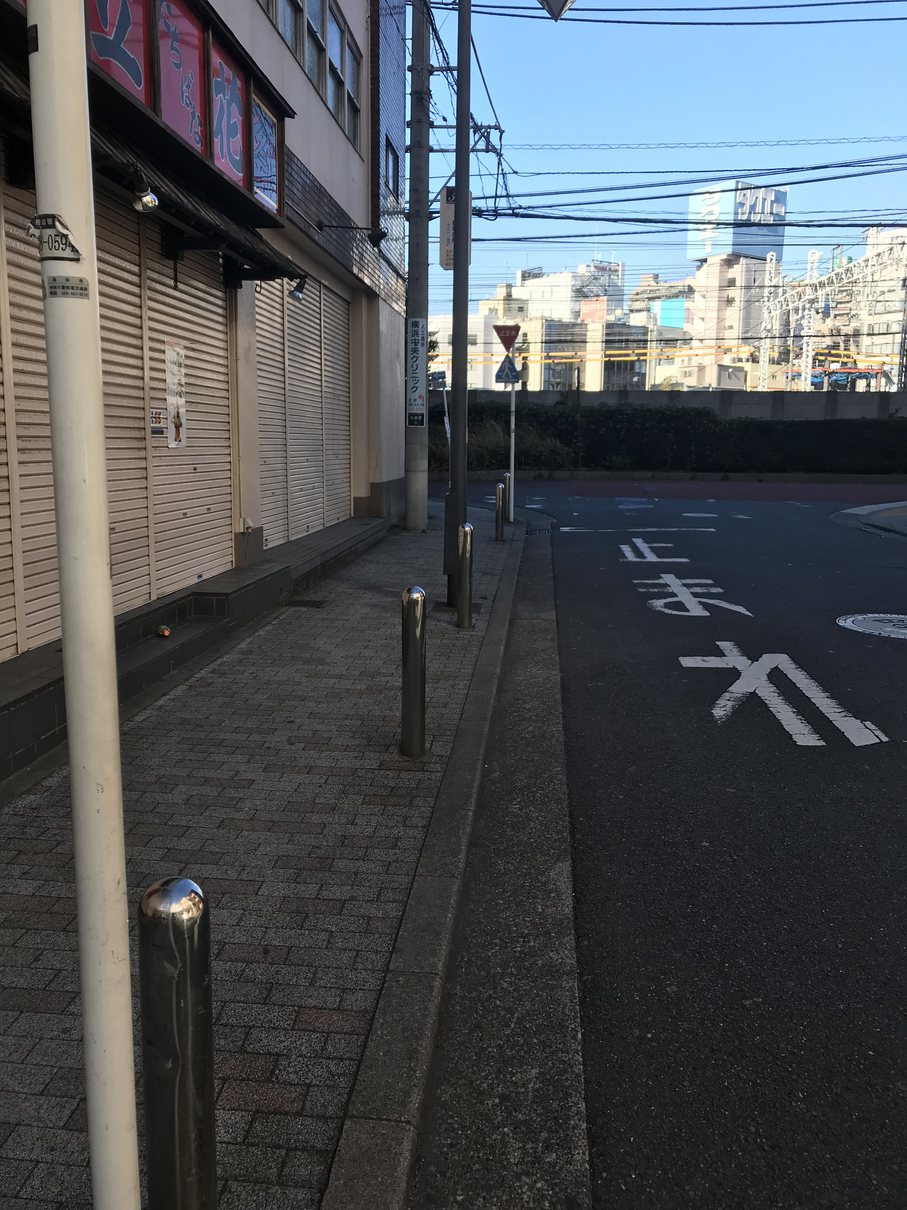stop_sign: (492, 322, 520, 353)
